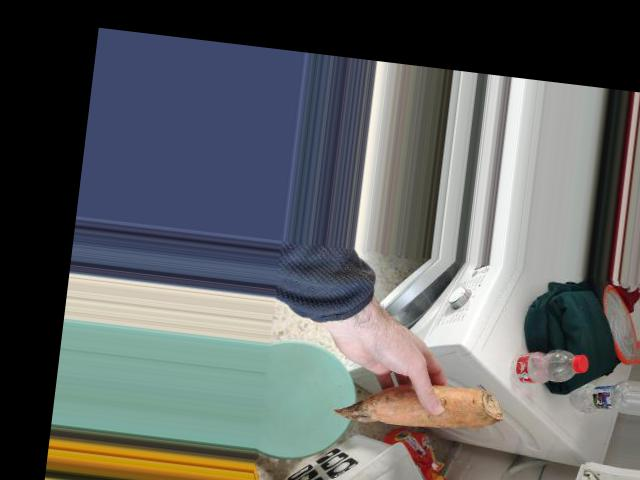sweet_potato: (342, 371, 504, 435)
